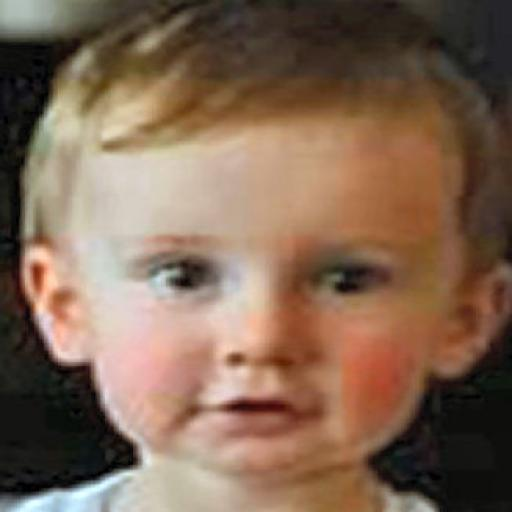Autism: (59, 8, 507, 486)
